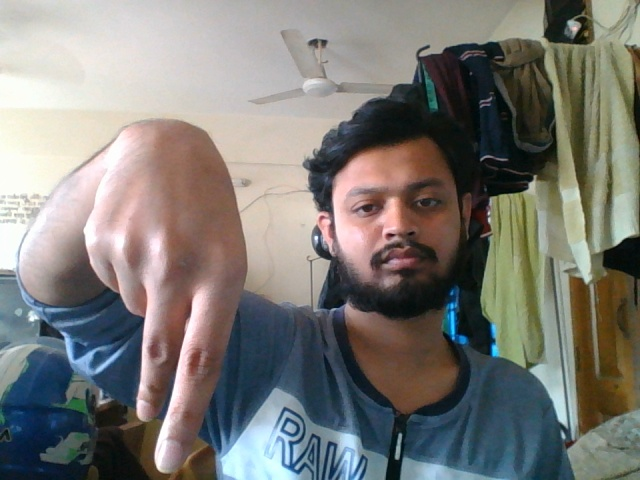pa: (75, 119, 264, 473)
